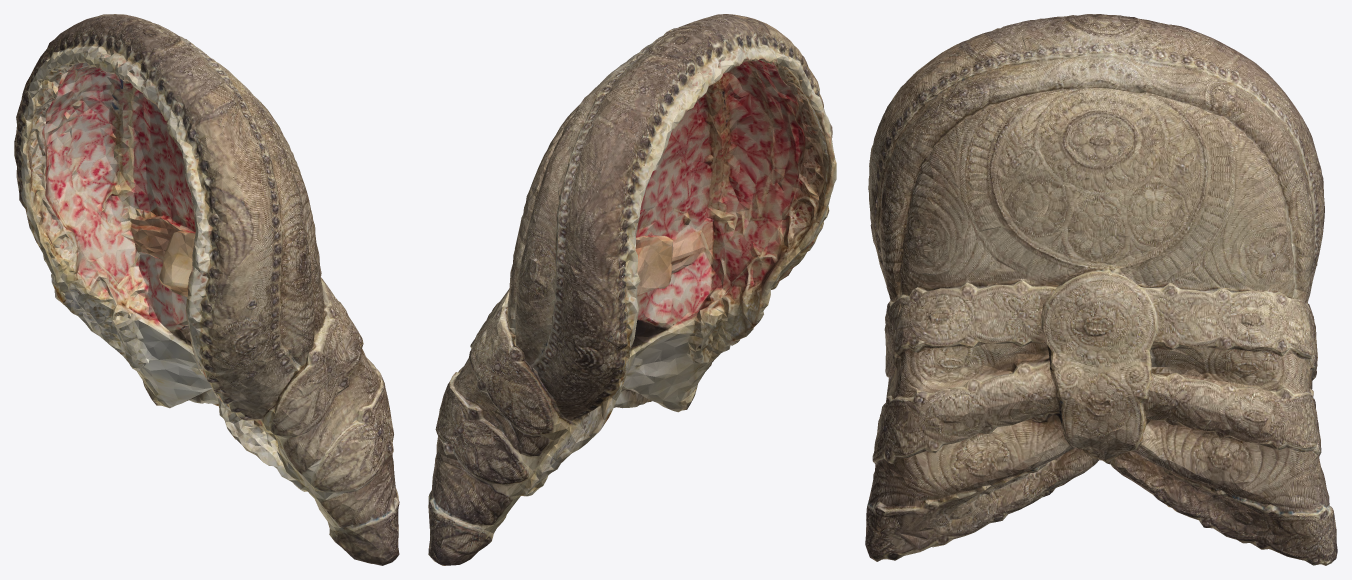
The model's file is riegelhaube.glb.
3 renders of one model, left to right at view 1: azimuth 30°, elevation 25°; view 2: azimuth 150°, elevation 25°; view 3: azimuth 270°, elevation 25°, orthographic.
Parts seen in each view (by area): view 1: SfM; view 2: SfM; view 3: SfM.
Part boxes in pixels (x1,y1,x2,y2): SfM: (14,14,399,565); SfM: (428,14,836,565); SfM: (865,14,1337,565).
Size of the model in its own units: 7.6 by 16.19 by 14.34.
Materials: 1 (1 with a texture image).
